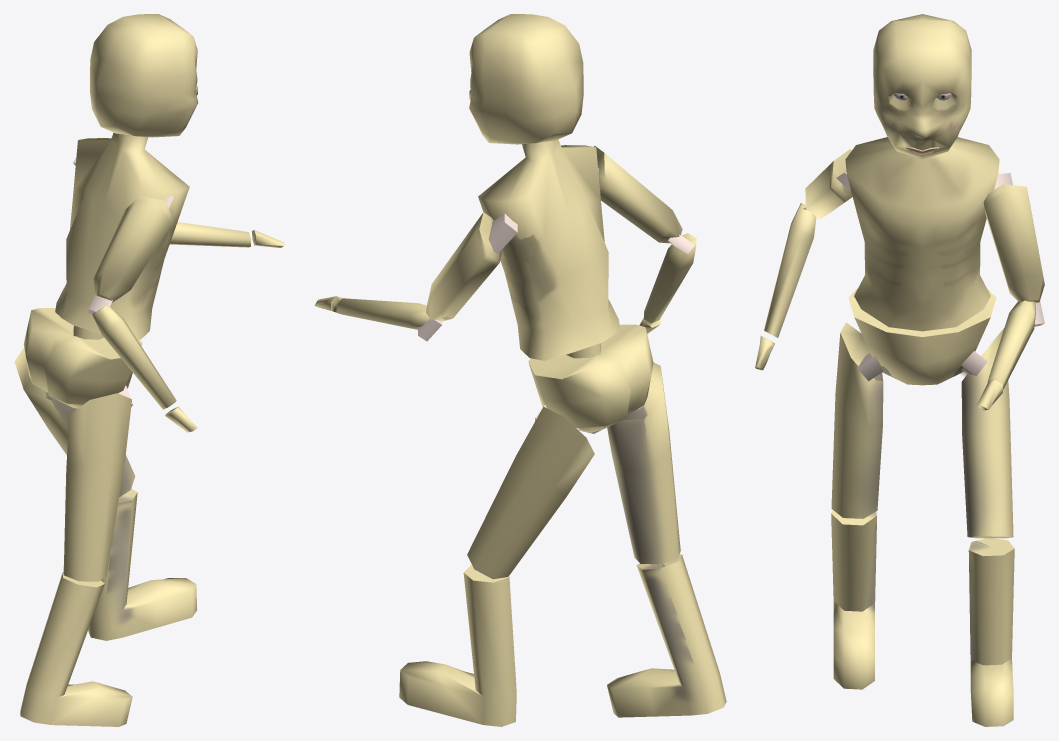
Rendered from Manequin.fbx.
3 renders of one model, left to right at view 1: azimuth 30°, elevation 25°; view 2: azimuth 150°, elevation 25°; view 3: azimuth 270°, elevation 25°, orthographic. The views are drawn at different scales.
Visible parts, largest first — view 1: Cube.039; view 2: Cube.039; view 3: Cube.039.
Part boxes in pixels (x1,y1,x2,y2): Cube.039: (14,14,285,726); Cube.039: (314,14,726,726); Cube.039: (755,14,1044,726).
Size of the model in its own units: 69.1 by 134 by 51.04.
1 material, 1 textured.
